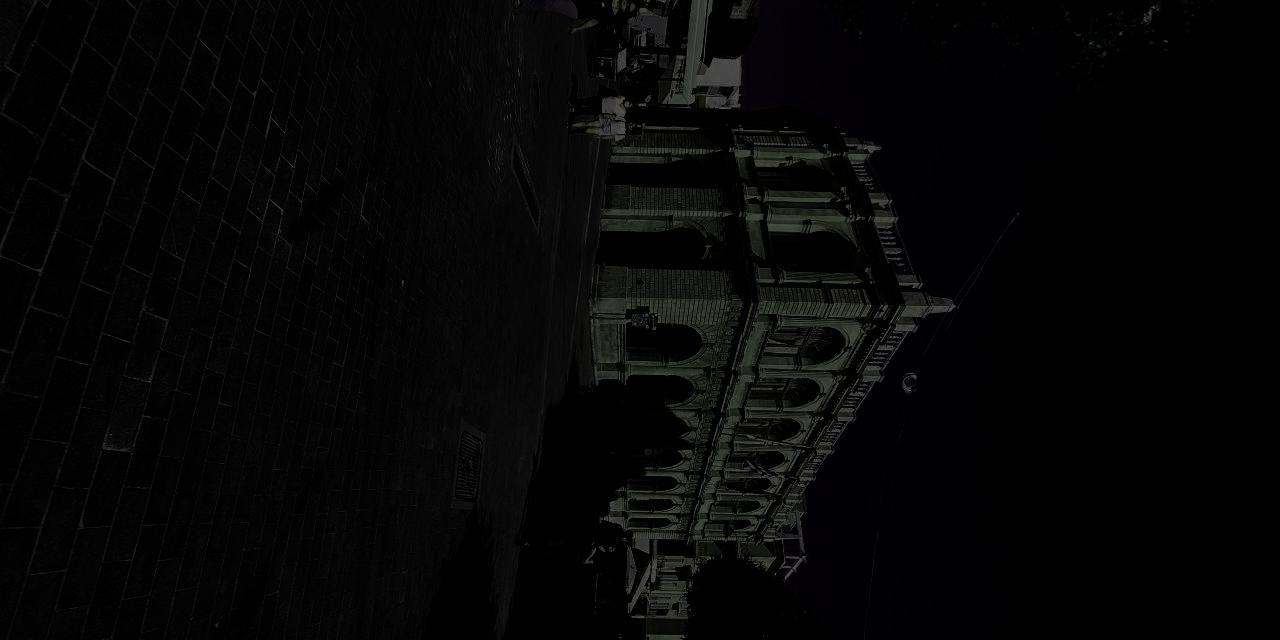Loggia: (803, 373, 1197, 640)
